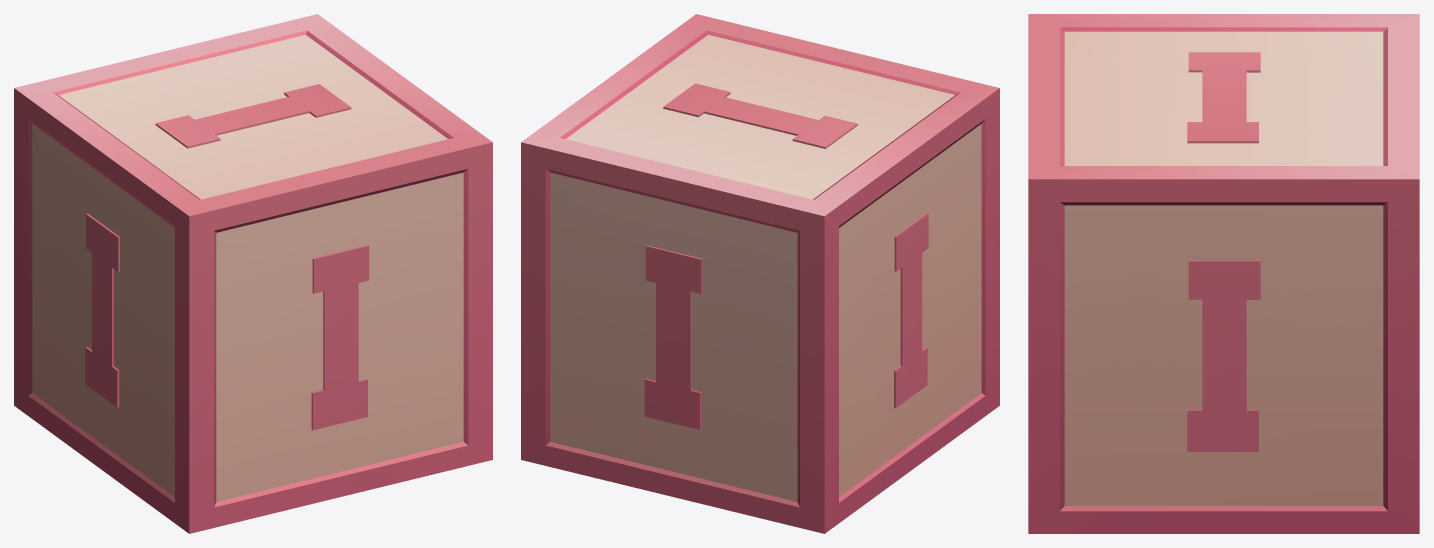
The model's file is Doll_OB_Blocks_009.FBX.
The picture shows the model from 3 angles, left to right: view 1: azimuth 30°, elevation 25°; view 2: azimuth 150°, elevation 25°; view 3: azimuth 270°, elevation 25°; orthographic projection. The views are drawn at different scales.
Parts seen in each view (by area): view 1: Doll_OB_Blocks_009; view 2: Doll_OB_Blocks_009; view 3: Doll_OB_Blocks_009.
Boxes of the visible parts, left/top/right/bottom form: Doll_OB_Blocks_009: left=14, top=14, right=492, bottom=533; Doll_OB_Blocks_009: left=521, top=14, right=999, bottom=533; Doll_OB_Blocks_009: left=1028, top=14, right=1419, bottom=533.
Size of the model in its own units: 20.66 by 20.66 by 20.66.
